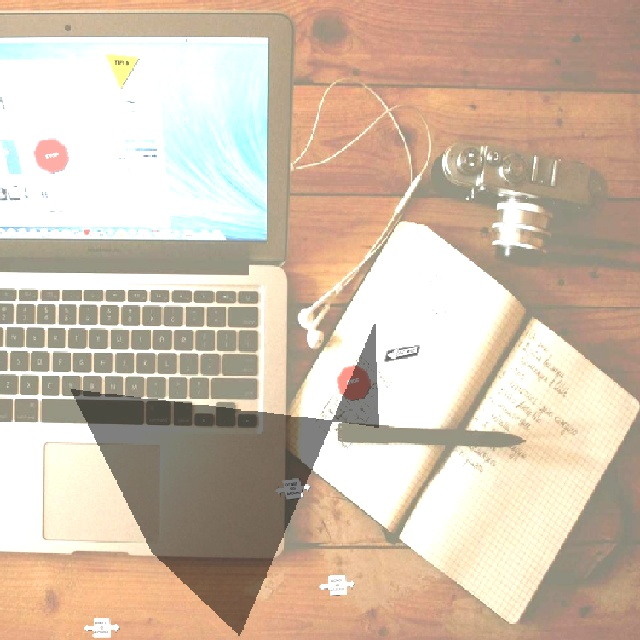DO_NOT_GO_AROUND: (273, 476, 310, 499), (317, 573, 354, 595), (82, 616, 119, 637)
ONE_WAY_ left: (382, 343, 419, 361)
STOP: (31, 136, 68, 172), (335, 363, 370, 400)
YIELD: (103, 52, 139, 89)
